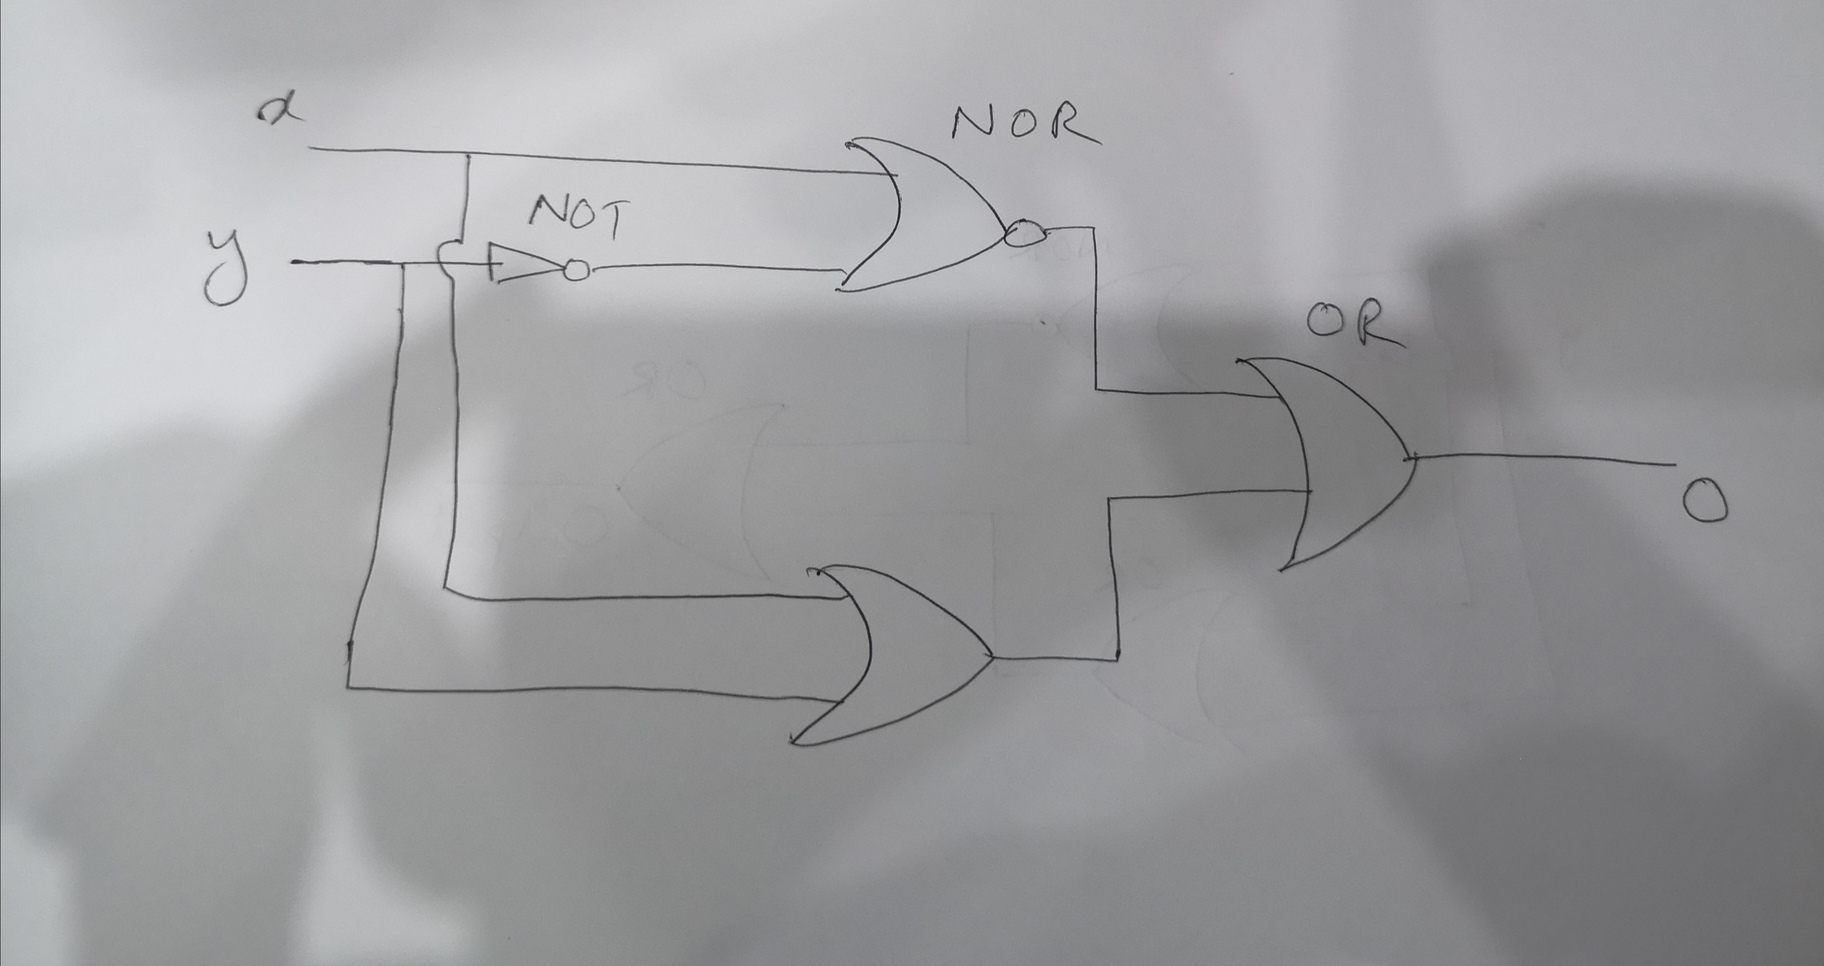crossover: (431, 234, 466, 285)
junction: (1103, 642, 1132, 672), (1078, 213, 1107, 240), (337, 674, 361, 698), (433, 576, 456, 599), (388, 254, 413, 276), (457, 142, 479, 165), (1099, 488, 1119, 509), (1088, 379, 1107, 399)
nor: (824, 131, 1054, 298)
not: (483, 238, 600, 289)
or: (1228, 350, 1425, 576), (782, 557, 1006, 753)
terminal: (280, 250, 314, 273), (1664, 455, 1684, 472), (302, 141, 321, 157)
text: (948, 95, 1101, 154), (1302, 292, 1409, 350), (521, 188, 632, 242), (201, 226, 249, 310), (1678, 473, 1734, 527), (255, 87, 306, 125)
